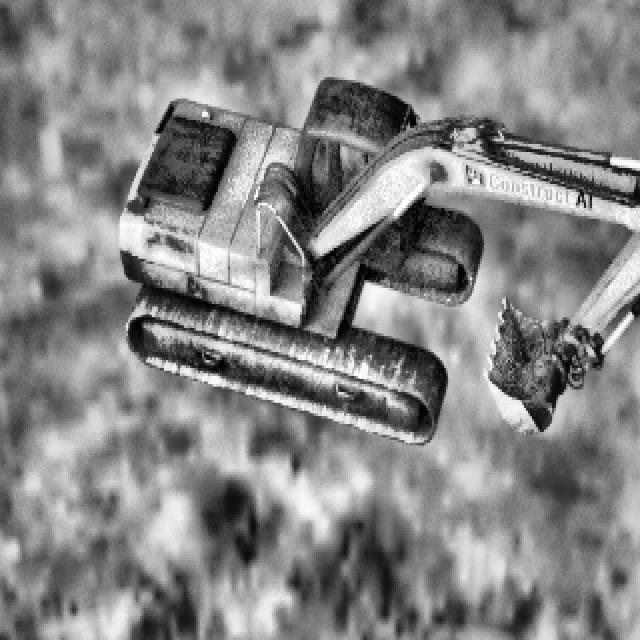excavator: (116, 75, 640, 442)
